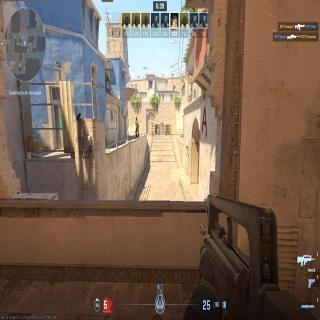T-Body: (134, 116, 140, 137)
T-Head: (135, 117, 138, 121)
